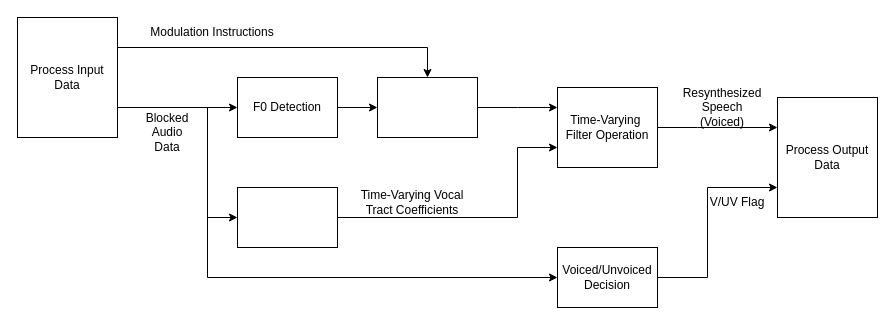
Image size: 895x325. Some labels were removed from this diagram. Here are the shapes that lost their labels. From the top down, the centre of each, then its label:
At (x=427, y=107): "Pulse train generation".
At (x=287, y=217): "Vocal Tract Modelling".
